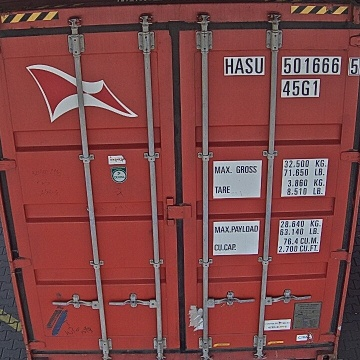serial_id: (224, 57, 359, 74)
